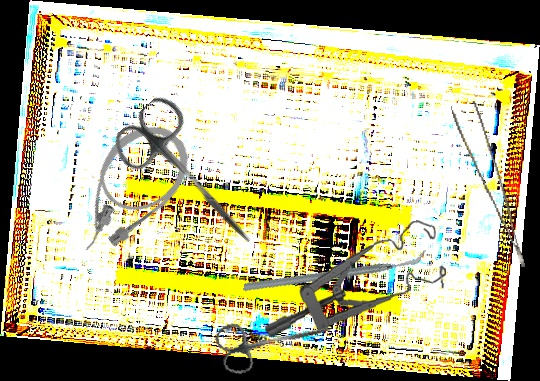Cannula: (49, 109, 205, 269)
Chopper: (242, 206, 427, 336)
Iris Scissors: (105, 90, 280, 267), (212, 301, 339, 378)
Speculum: (258, 218, 450, 339)
Tissue Forceps: (450, 98, 526, 275)
